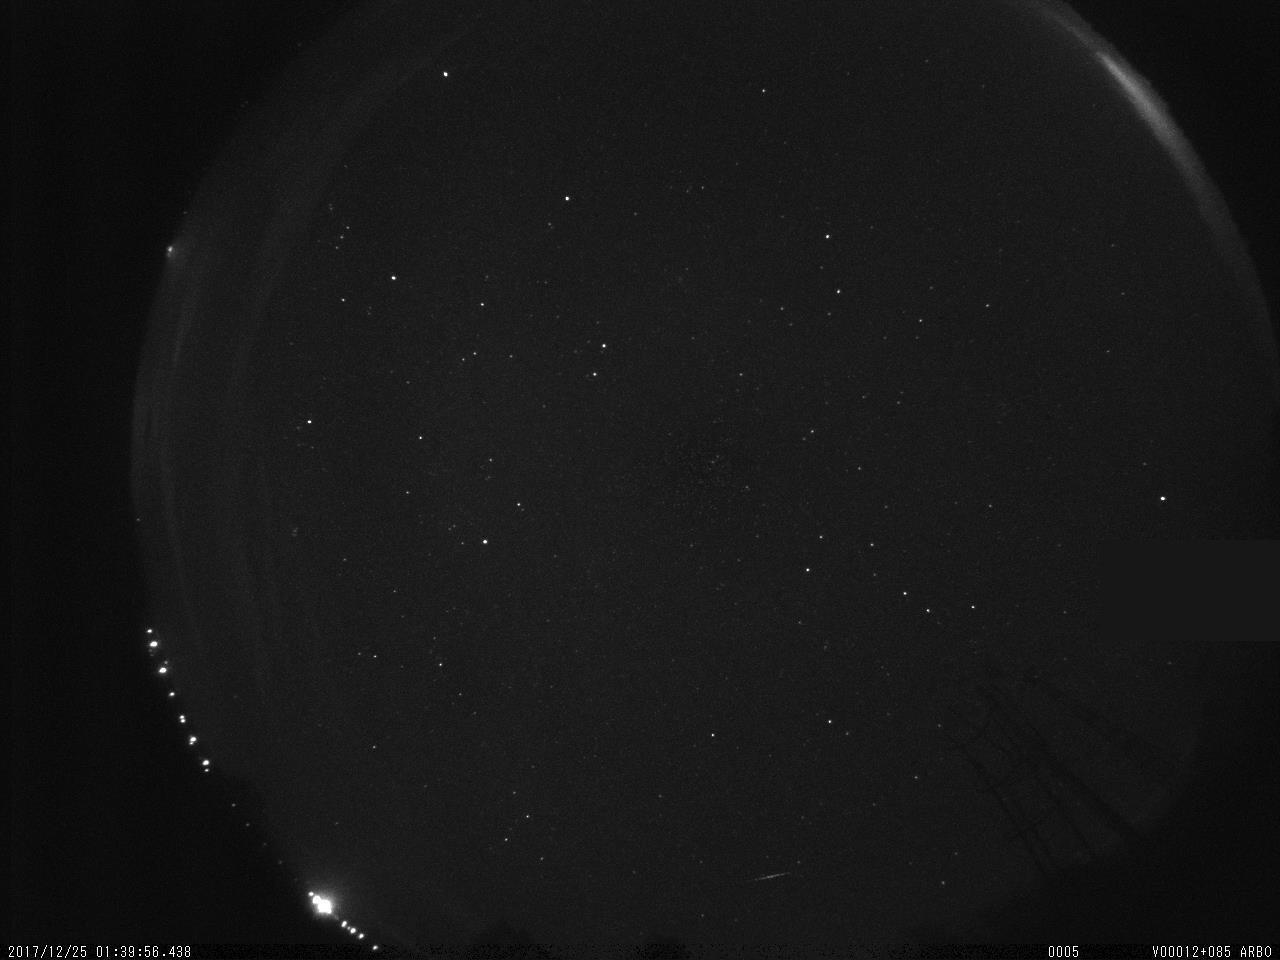meteor: (727, 854, 807, 896)
